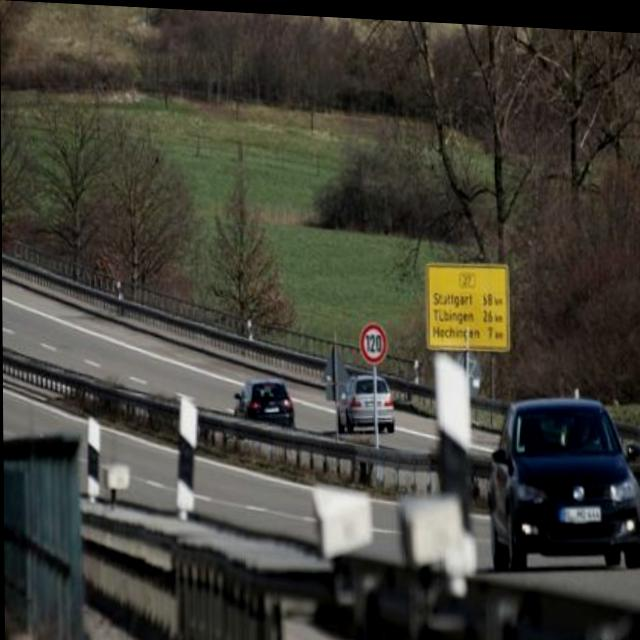limit120: (363, 321, 389, 361)
